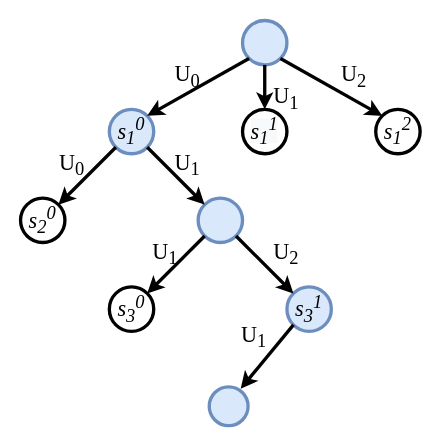
Image size: 441x446. Some labels were removed from this diagram. The shapes that lost their labels are listed below. From the top down, each one's box as (x1, y1, x2, y2) in pixels, then its label:
(240, 18, 288, 66): s 0
(196, 196, 244, 244): s 2 1
(207, 385, 249, 427): s 4 0
